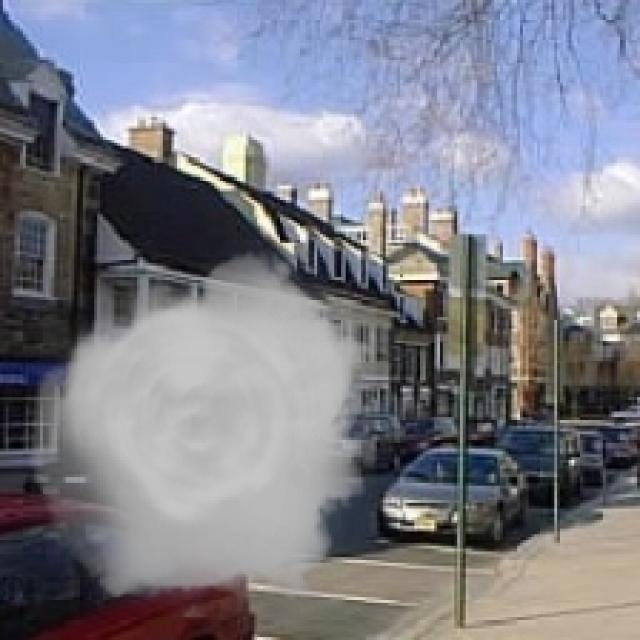smoke: (29, 240, 377, 617)
